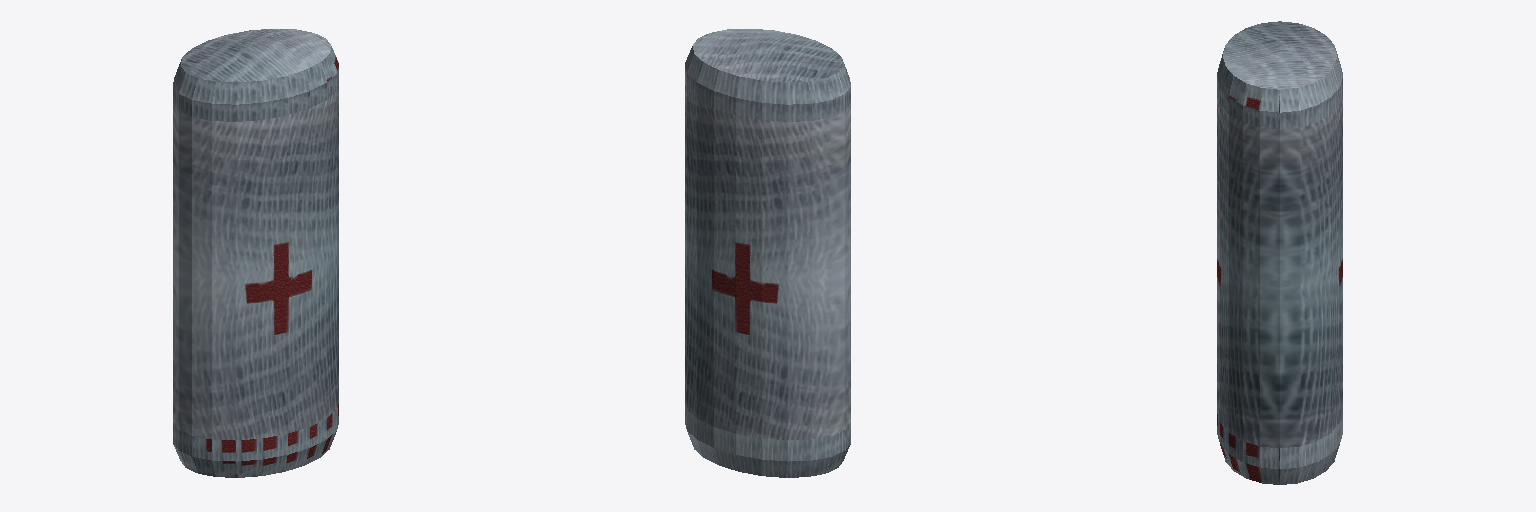
3 renders of one model, left to right at view 1: azimuth 30°, elevation 25°; view 2: azimuth 150°, elevation 25°; view 3: azimuth 270°, elevation 25°, orthographic.
Visible parts, largest first — view 1: Bandage; view 2: Bandage; view 3: Bandage.
Part boxes in pixels (x1,y1,x2,y2): Bandage: (173,29,338,477); Bandage: (685,29,850,477); Bandage: (1217,21,1342,484).
Bounding box in the file's own units: 0.1349 × 0.3494 × 0.0955.
Materials: 1 (1 with a texture image).